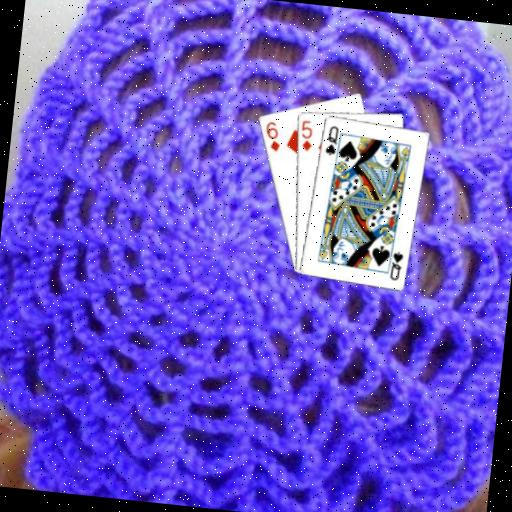5D: (296, 117, 316, 153)
6D: (260, 118, 284, 154)
QS: (321, 122, 340, 157), (387, 248, 406, 282)
